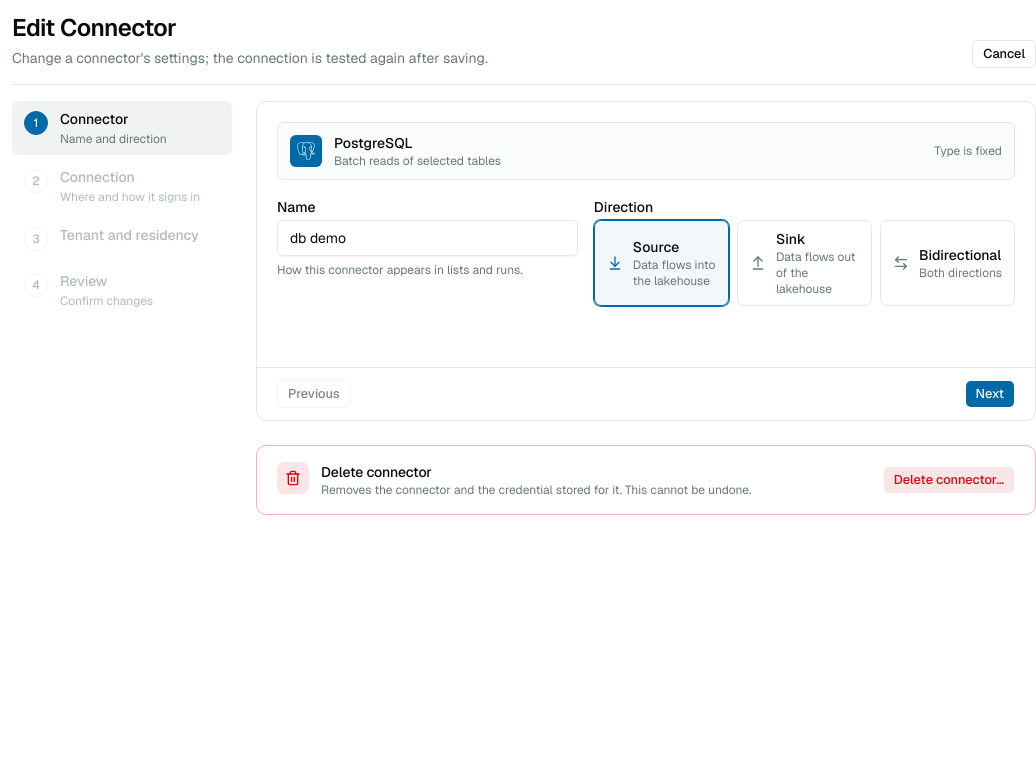
Test: ConnectorEditPage › stops at the first failure and reports what was and was not saved
Replace the text in the field labelled "Name" with "renamed": point(427, 238) top-left (277, 220), bottom-right (578, 256)
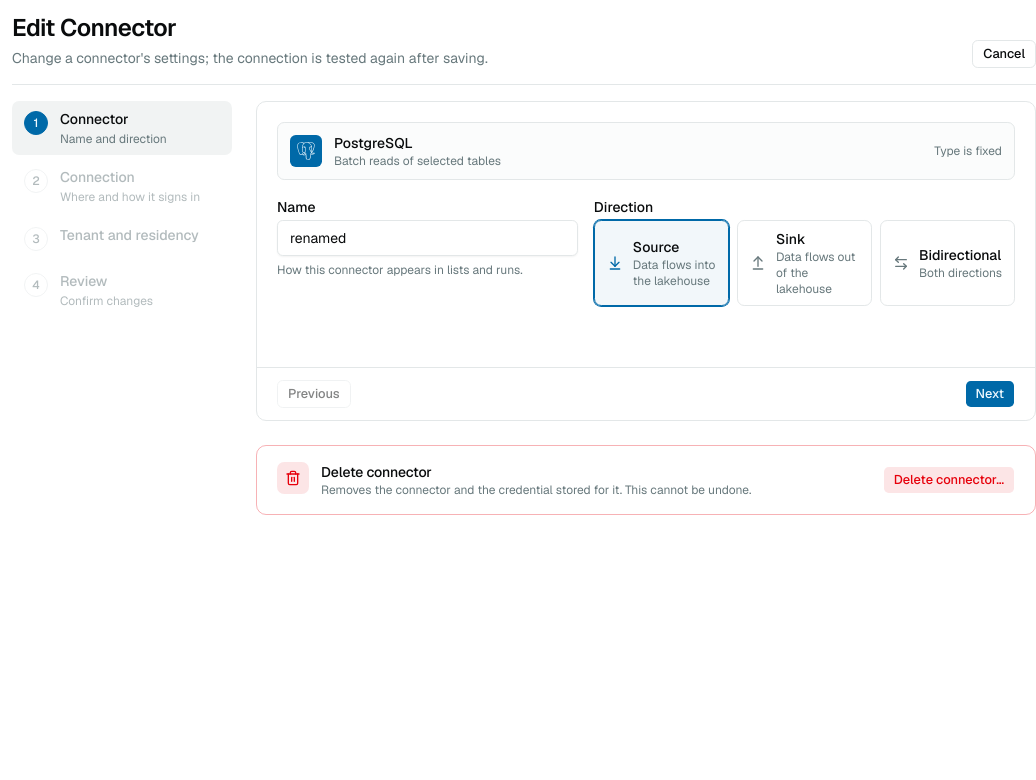
Click the button "Next": point(990, 394) top-left (964, 380), bottom-right (1015, 408)
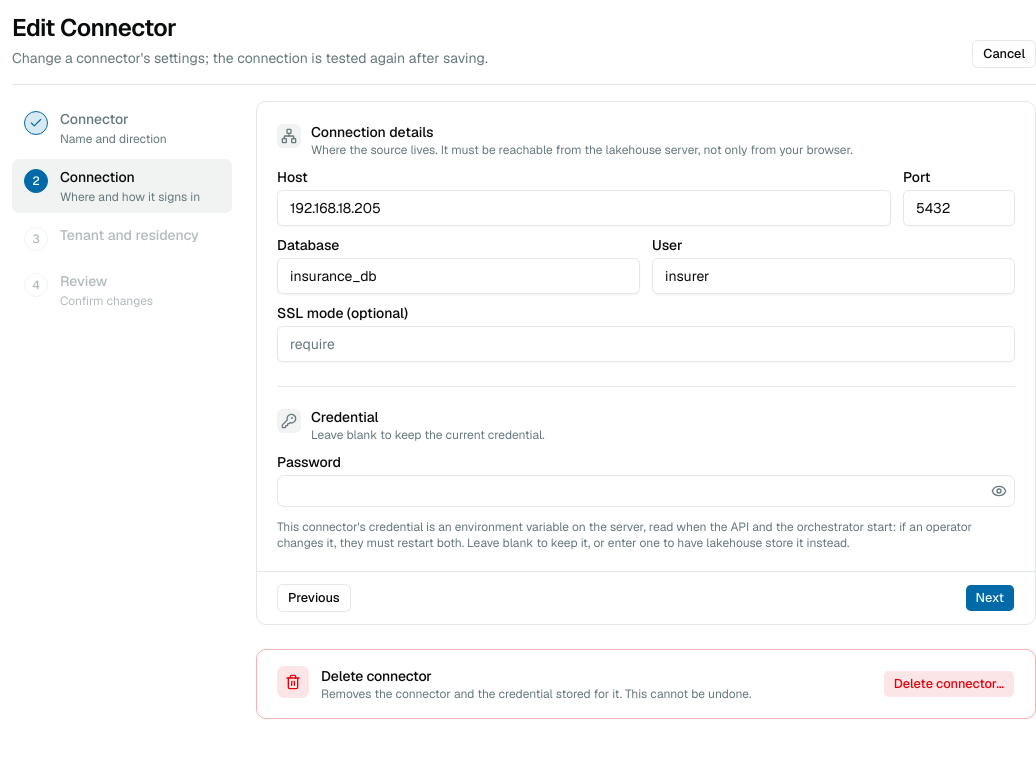
In the password field labelled "Password": point(632, 491) top-left (278, 473), bottom-right (987, 509), type "wrong"
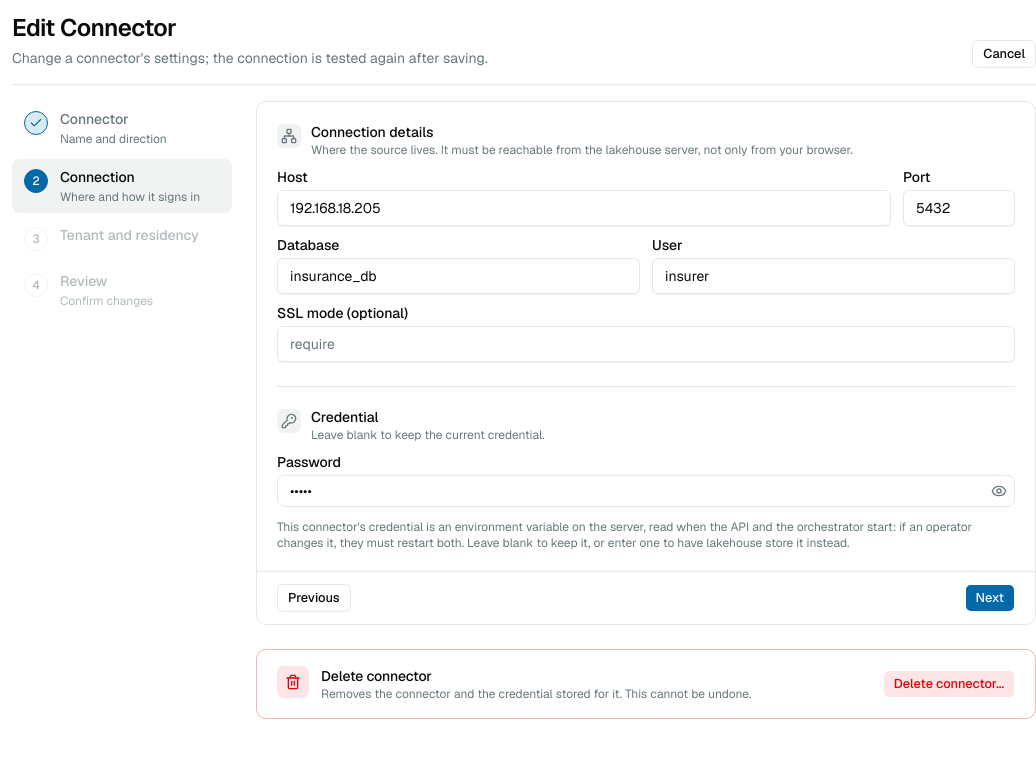
Click the button "Next": point(990, 598) top-left (964, 584), bottom-right (1015, 612)
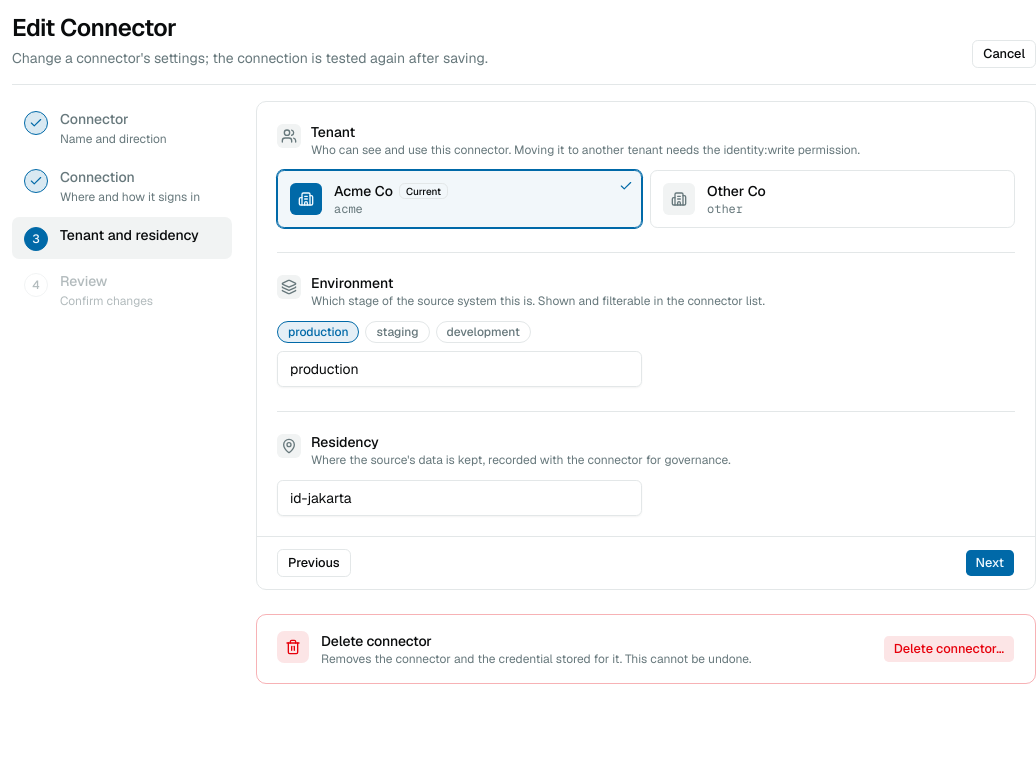
Click the button "Next": point(990, 563) top-left (964, 549), bottom-right (1015, 577)
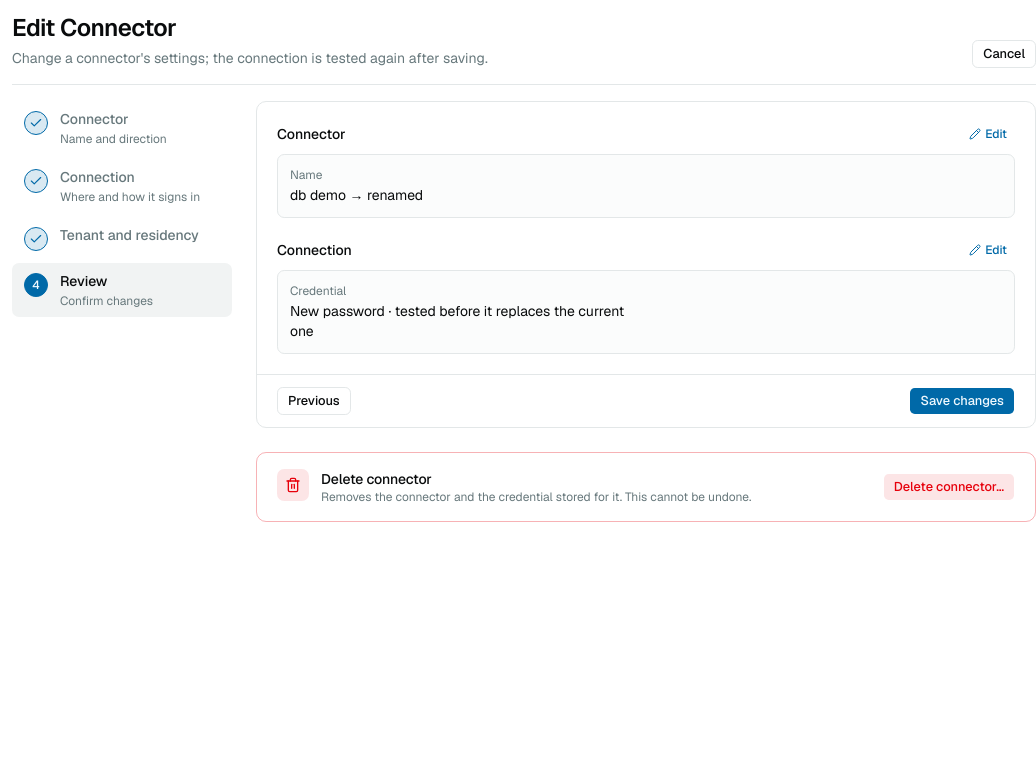
Click the button "Save changes": point(962, 401) top-left (910, 387), bottom-right (1015, 415)
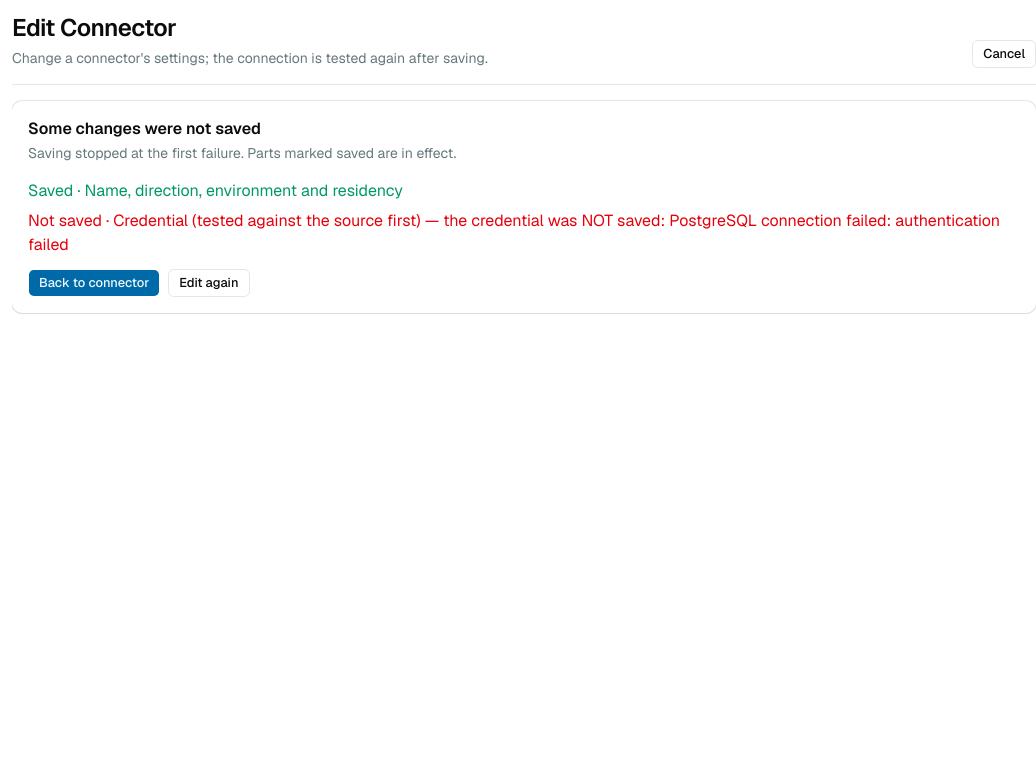
Result: the text "Some changes were not saved" is shown at top-left (28, 118), bottom-right (261, 139)
Result: the list item "Saved · Name, direction, environment and residency" is shown at top-left (28, 180), bottom-right (403, 201)
Result: the list item that starts with "Not saved" is shown at top-left (28, 209), bottom-right (1020, 257)
